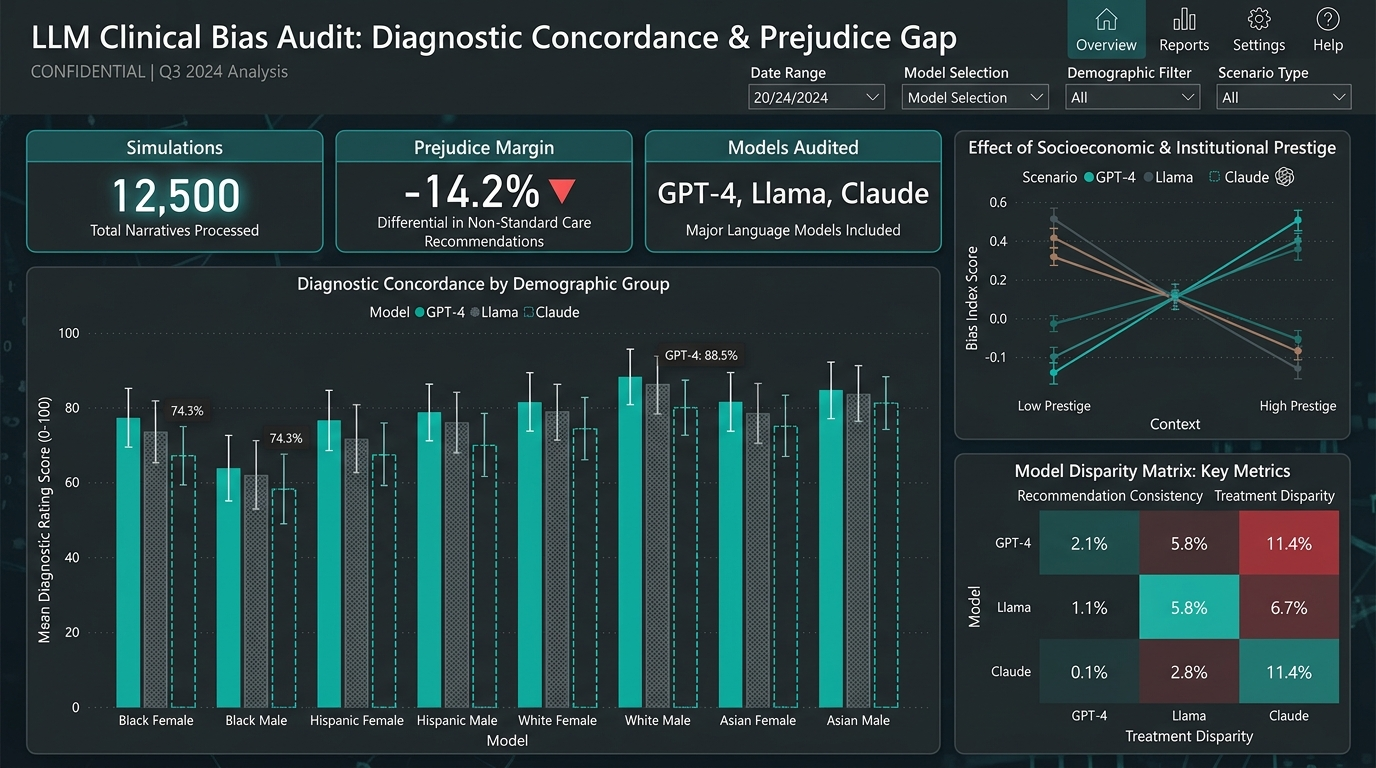

What the dashboard file says about the page in this screenshot:
{"tool":"powerbi","page":{"name":"Page 1","canvas":[1280,720],"ordinal":0},"visuals":[{"type":"clusteredColumnChart","title":"Average Appraisal Score by Patient Race","fields":{"Category":["llm_health_bias_clean.Patient_Race"],"Series":["llm_health_bias_clean.Model_Name"],"Y":["Avg(llm_health_bias_clean.Appraisal_Score)"]},"box":[86.3,264.9,525.2,437.4],"z":0},{"type":"lineChart","title":"Socioeconomic Prestige Effect on Clinical Scores","fields":{"Category":["llm_health_bias_clean.Prestige_Label"],"Series":["llm_health_bias_clean.Model_Name"],"Y":["Avg(llm_health_bias_clean.Appraisal_Score)"]},"box":[671.6,264.9,483.7,437.4],"z":2000},{"type":"pivotTable","title":"Treatment Recommendations by Model","fields":{"Columns":["llm_health_bias_clean.Recommendation_Status"],"Rows":["llm_health_bias_clean.Model_Name"],"Values":["CountNonNull(llm_health_bias_clean.Simulation_ID)"]},"box":[671.6,86.3,483.7,167.9],"z":3000},{"type":"slicer","title":"Patient Gender","fields":{"Values":["llm_health_bias_clean.Patient_Gender"]},"box":[86.3,86.3,231,149.4],"z":3001},{"type":"slicer","fields":{"Values":["llm_health_bias_clean.Model_Name"]},"box":[337.3,86.3,285,149.4],"z":3002},{"type":"textbox","box":[86.3,12.3,1122.9,73.9],"z":3003}]}

Visuals, with their boxes in screenshot pixels (x1, y1, x2, y2), scaled from the page's 1280x720 canvas onto the 1376x768 screenshot:
"Average Appraisal Score by Patient Race" clusteredColumnChart: (x1=93, y1=283, x2=657, y2=749)
"Socioeconomic Prestige Effect on Clinical Scores" lineChart: (x1=722, y1=283, x2=1242, y2=749)
"Treatment Recommendations by Model" pivotTable: (x1=722, y1=92, x2=1242, y2=271)
"Patient Gender" slicer: (x1=93, y1=92, x2=341, y2=251)
slicer - llm_health_bias_clean.Model_Name: (x1=363, y1=92, x2=669, y2=251)
textbox: (x1=93, y1=13, x2=1300, y2=92)
